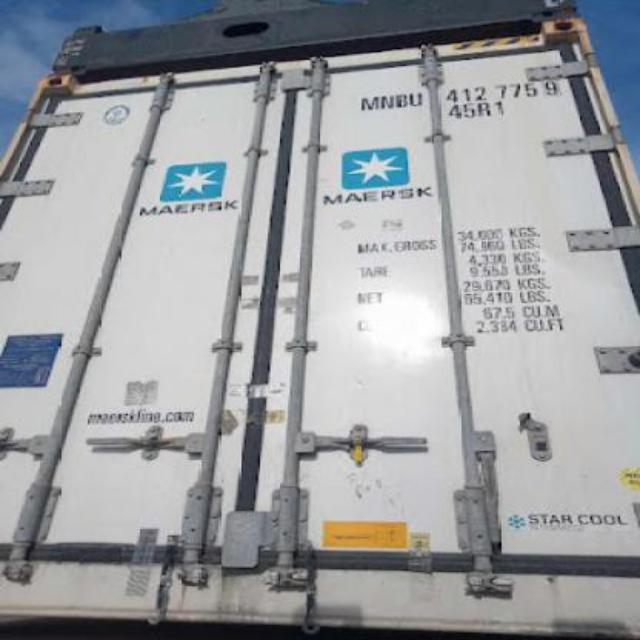1: (458, 84, 472, 100)
2: (472, 83, 488, 101)
4: (442, 84, 460, 104)
5: (524, 78, 538, 100)
7: (506, 78, 522, 102), (494, 78, 506, 98)
9: (540, 76, 560, 100)
B: (396, 88, 408, 110)
M: (358, 90, 378, 114)
N: (378, 90, 392, 112)
U: (408, 88, 424, 110)
